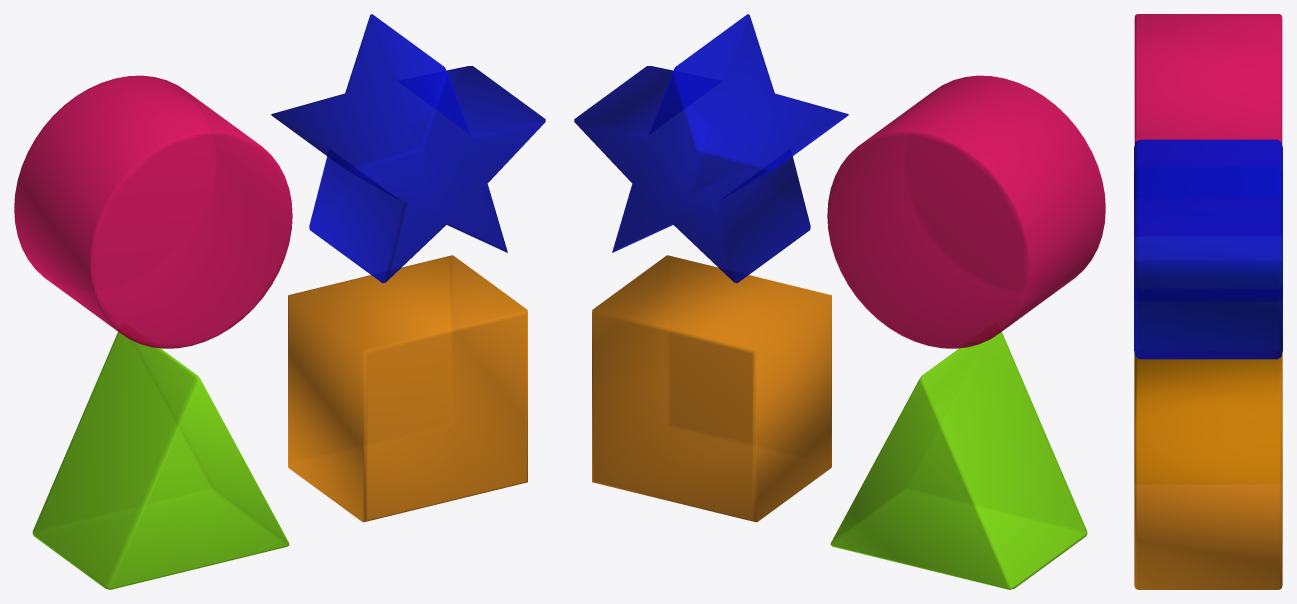
The model's file is ShapeDrop_FinalAssets-AIPowerUp-Final-Optimized.fbx.
3 renders of one model, left to right at view 1: azimuth 30°, elevation 25°; view 2: azimuth 150°, elevation 25°; view 3: azimuth 270°, elevation 25°, orthographic. The views are drawn at different scales.
Parts seen in each view (by area): view 1: CirclePlayer - Optimized, CubePlayer - Optimized, TrianglePlayer - Optimized, StarPlayer - Optimized; view 2: CirclePlayer - Optimized, CubePlayer - Optimized, TrianglePlayer - Optimized, StarPlayer - Optimized; view 3: CubePlayer - Optimized, StarPlayer - Optimized, CirclePlayer - Optimized.
Boxes of the visible parts, x1=… form: CirclePlayer - Optimized: x1=14, y1=75, x2=292, y2=348; CubePlayer - Optimized: x1=288, y1=255, x2=527, y2=522; TrianglePlayer - Optimized: x1=32, y1=332, x2=289, y2=589; StarPlayer - Optimized: x1=271, y1=14, x2=545, y2=283; CirclePlayer - Optimized: x1=827, y1=75, x2=1105, y2=348; CubePlayer - Optimized: x1=592, y1=255, x2=831, y2=522; TrianglePlayer - Optimized: x1=830, y1=332, x2=1087, y2=589; StarPlayer - Optimized: x1=574, y1=14, x2=848, y2=283; CubePlayer - Optimized: x1=1134, y1=354, x2=1282, y2=589; StarPlayer - Optimized: x1=1134, y1=139, x2=1282, y2=359; CirclePlayer - Optimized: x1=1134, y1=14, x2=1282, y2=144.
Bounding box in the file's own units: 90.73 × 83.44 × 26.89.
